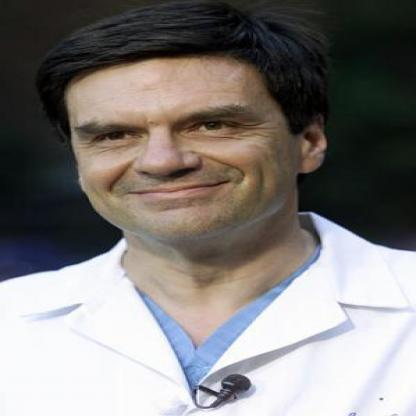face: (55, 11, 307, 248)
